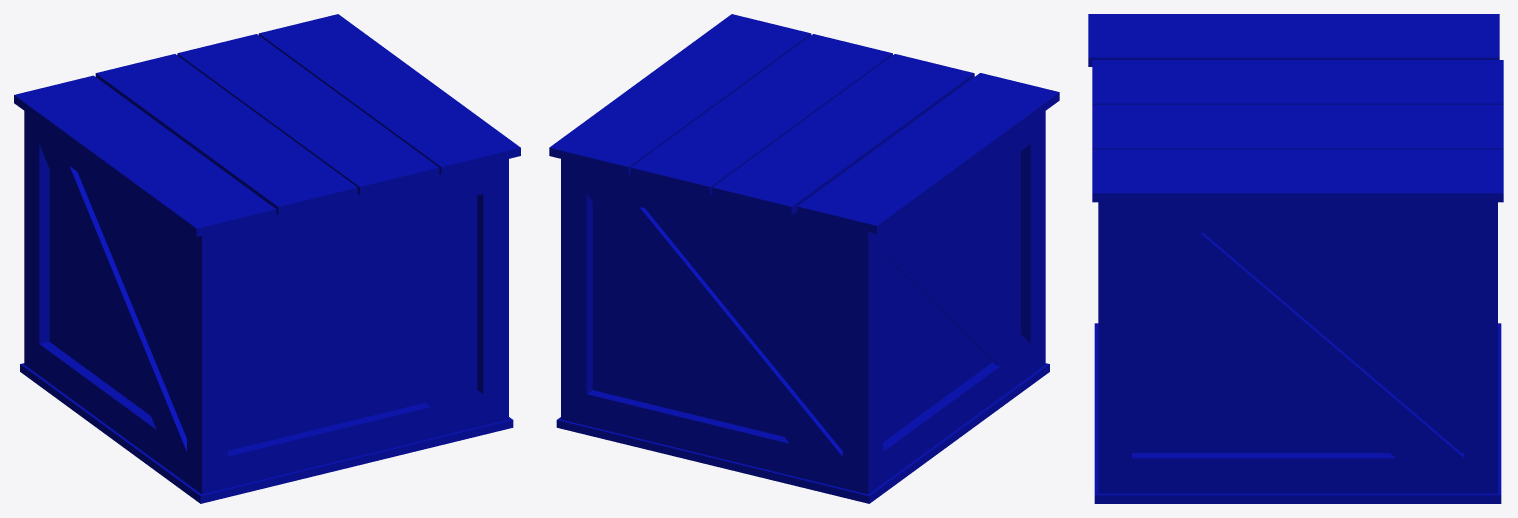
File: SM_crate1.fbx
3 renders of one model, left to right at view 1: azimuth 30°, elevation 25°; view 2: azimuth 150°, elevation 25°; view 3: azimuth 270°, elevation 25°, orthographic. The views are drawn at different scales.
Visible parts, largest first — view 1: polySurface39.001; view 2: polySurface39.001; view 3: polySurface39.001.
Boxes of the visible parts, x1=… form: polySurface39.001: x1=14, y1=14, x2=520, y2=503; polySurface39.001: x1=549, y1=14, x2=1059, y2=503; polySurface39.001: x1=1088, y1=14, x2=1503, y2=503.
Bounding box in the file's own units: 86.73 × 70.95 × 85.01.
